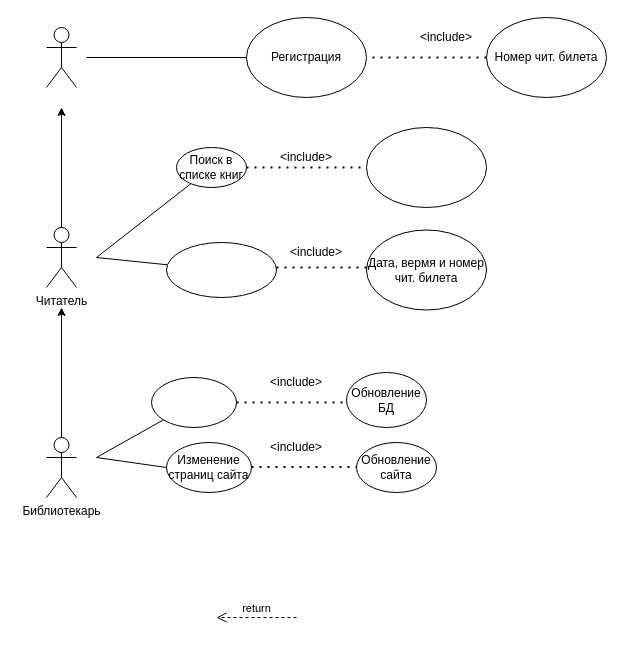
The diagram is 624 pixels wide and 645 high, and some of its shapes have lost their labels. Here are the shapes that lost their labels. From the top down, the box of each, then its label:
(46, 26, 76, 88): Заблудившийся
(366, 126, 486, 208): Результаты поиска
(166, 242, 276, 298): Заказ книги
(150, 376, 236, 428): Добавление книг
